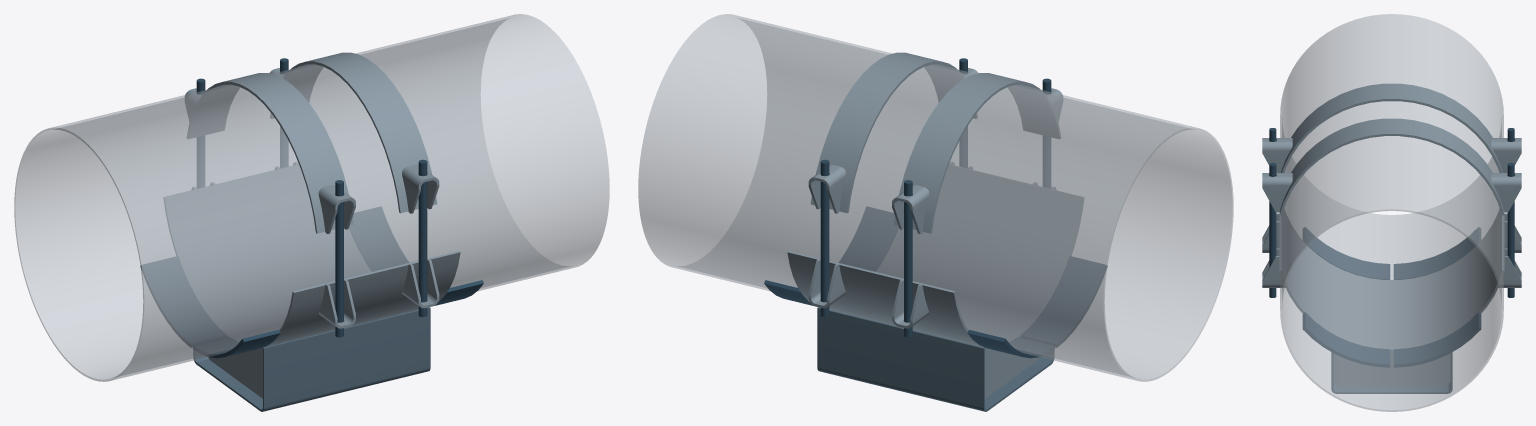
The model's file is TS-671.00.00-20-opora-dn920-H200.glb.
The picture shows the model from 3 angles, left to right: view 1: azimuth 30°, elevation 25°; view 2: azimuth 150°, elevation 25°; view 3: azimuth 270°, elevation 25°; orthographic projection. The views are drawn at different scales.
Visible parts, largest first — view 1: truba, podushka_0, skoba_1, bugel_podushka_-1_0, bugel_podushka_1_0, upor_-1_1, upor_1_1, rebro_2, shpilka_1_-1, shpilka_-1_-1, upor_-1_-1, bugel_ushko_1_2 (+5 smaller); view 2: truba, podushka_0, skoba_1, bugel_podushka_-1_0, bugel_podushka_1_0, upor_-1_-1, upor_1_-1, rebro_2, shpilka_1_1, shpilka_-1_1, upor_-1_1, bugel_ushko_1_1 (+5 smaller); view 3: truba, podushka_0, bugel_podushka_1_0, bugel_podushka_-1_0, rebro_6, upor_1_1, upor_1_-1, upor_-1_1, upor_-1_-1, skoba_1, bugel_ushko_1_1, bugel_ushko_1_2 (+8 smaller).
Boxes of the visible parts, x1,y1,x2,y2 form: truba: (14,14,609,381); podushka_0: (163,164,460,347); skoba_1: (193,307,430,411); bugel_podushka_-1_0: (187,73,353,233); bugel_podushka_1_0: (270,52,437,213); upor_-1_1: (140,256,227,347); upor_1_1: (349,207,408,271); rebro_2: (208,348,262,398); shpilka_1_-1: (418,159,427,317); shpilka_-1_-1: (335,180,343,337); upor_-1_-1: (193,330,280,358); bugel_ushko_1_2: (402,164,439,213); truba: (638,14,1233,381); podushka_0: (787,164,1084,347); skoba_1: (817,307,1054,411); bugel_podushka_-1_0: (894,73,1060,233); bugel_podushka_1_0: (810,52,977,213); upor_-1_-1: (1020,256,1107,347); upor_1_-1: (839,207,898,271); rebro_2: (985,348,1039,398); shpilka_1_1: (820,159,829,317); shpilka_-1_1: (904,180,912,337); upor_-1_1: (967,330,1054,358); bugel_ushko_1_1: (808,164,845,213); truba: (1280,14,1503,411); podushka_0: (1279,209,1504,352); bugel_podushka_1_0: (1279,118,1504,215); bugel_podushka_-1_0: (1281,83,1502,172); rebro_6: (1333,352,1450,385); upor_1_1: (1393,312,1481,367); upor_1_-1: (1302,312,1390,367); upor_-1_1: (1393,227,1480,279); upor_-1_-1: (1303,227,1390,279); skoba_1: (1331,352,1452,393); bugel_ushko_1_1: (1491,173,1521,212); bugel_ushko_1_2: (1262,173,1292,212).
Bounding box in the file's own units: 1900 × 1136 × 1066.
